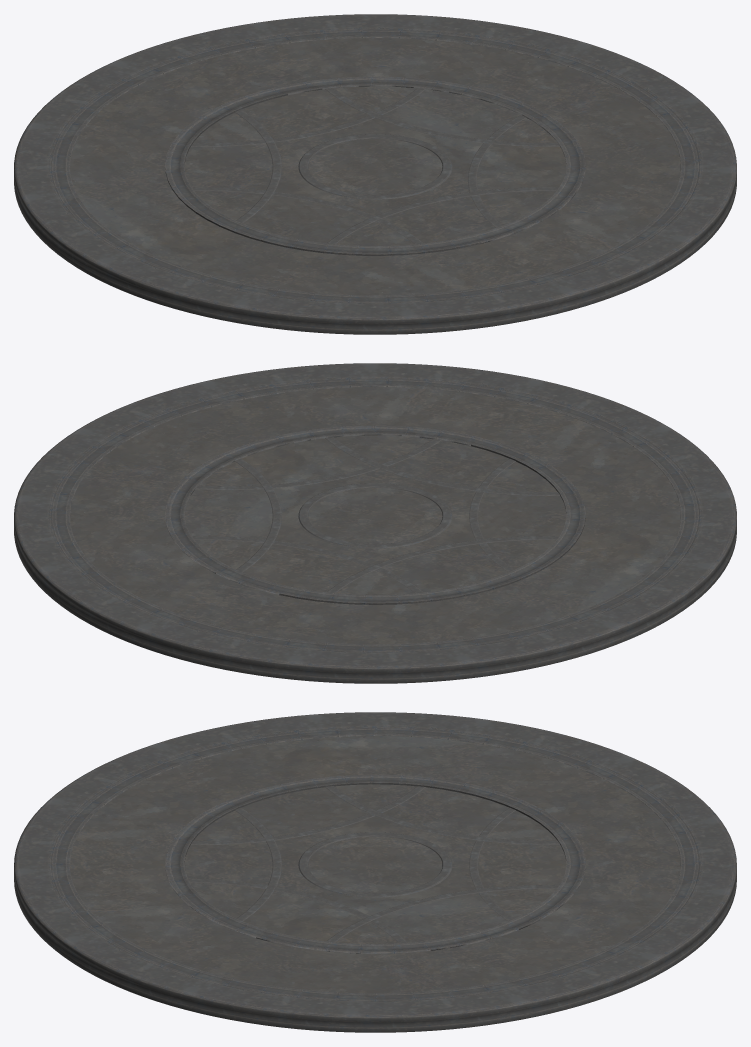
File: Arena_center.fbx
The picture shows the model from 3 angles, top to bottom: view 1: azimuth 30°, elevation 25°; view 2: azimuth 150°, elevation 25°; view 3: azimuth 270°, elevation 25°; orthographic projection.
Parts seen in each view (by area): view 1: Plane006, Object011; view 2: Plane006, Object011; view 3: Plane006, Object011.
Part boxes in pixels (x1,y1,x2,y2): Plane006: (70,38,680,295); Object011: (14,14,736,334); Plane006: (70,387,680,644); Object011: (14,363,736,683); Plane006: (70,736,680,993); Object011: (14,712,736,1032).
Bounding box in the file's own units: 2610 × 67.6 × 2610.
